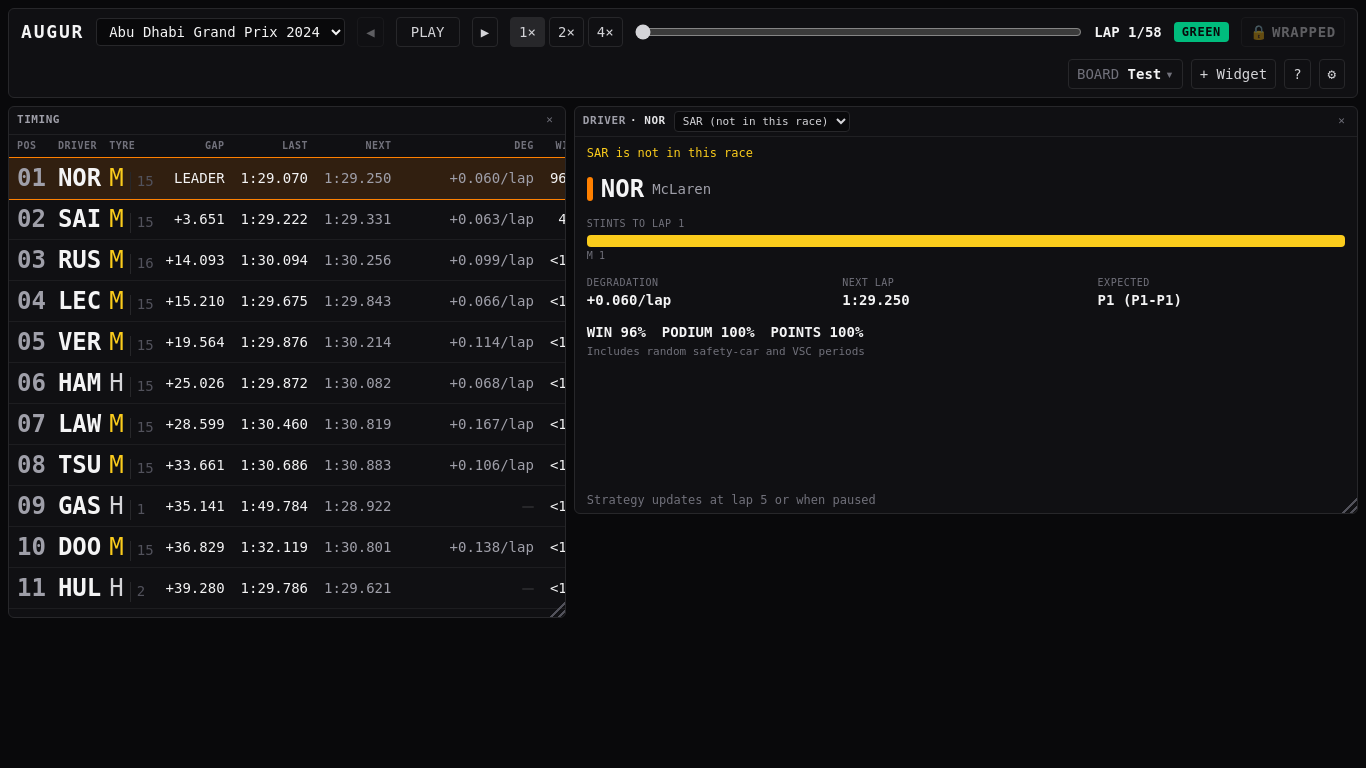
Test: Per-widget driver › Pinned driver missing: a driver widget pinned to SAR shows the message and the focus driver's panel
Click the row with test id "row-VER": click(324, 342) [9,322,638,363]
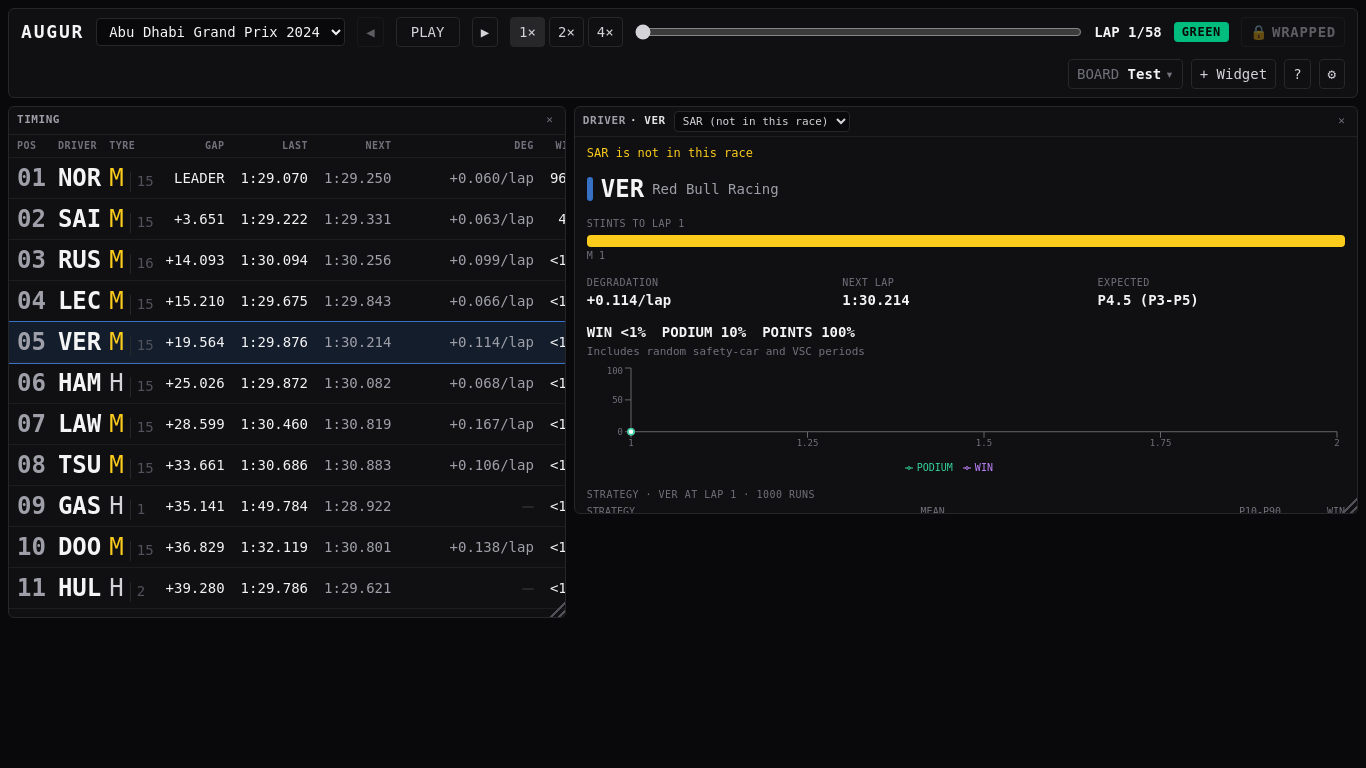
Check: the text with test id "driver-missing" reads "SAR is not in this race", box [587,146,753,160]
Check: the element with test id "focus-panel" shows "VER", box [601,175,644,203]
